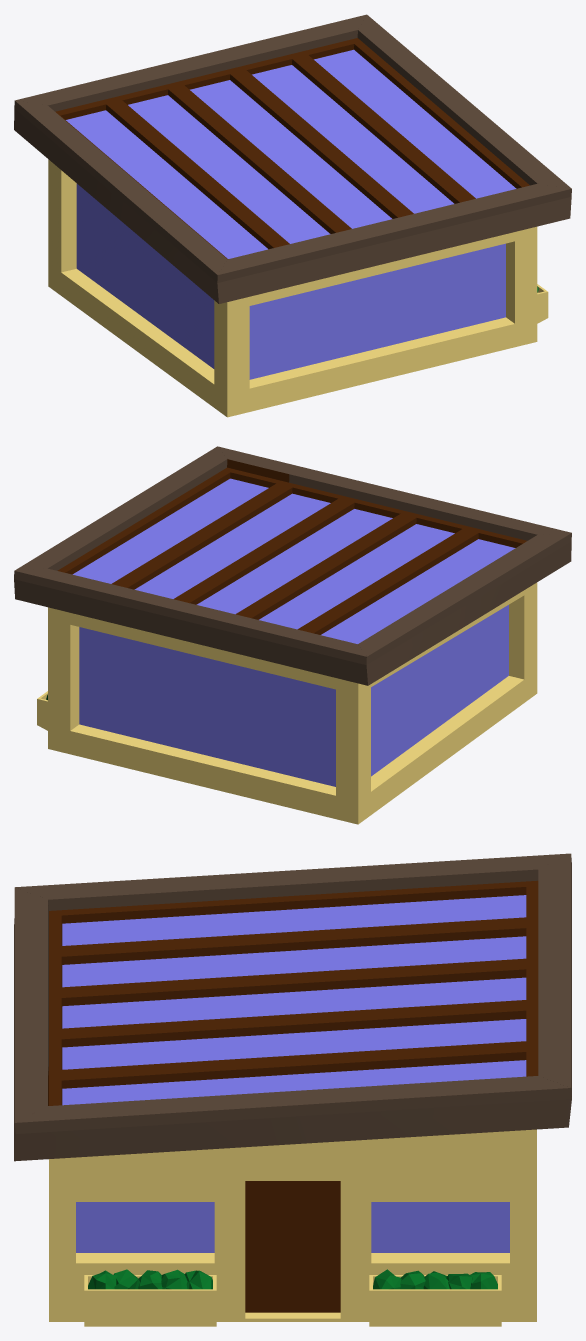
File: Flower Shop.FBX
3 renders of one model, top to bottom at view 1: azimuth 30°, elevation 25°; view 2: azimuth 150°, elevation 25°; view 3: azimuth 270°, elevation 25°, orthographic. The views are drawn at different scales.
Parts seen in each view (by area): view 1: Flower shop; view 2: Flower shop; view 3: Flower shop.
Part boxes in pixels (x1,y1,x2,y2): Flower shop: (14, 14, 571, 417); Flower shop: (14, 446, 571, 824); Flower shop: (14, 853, 571, 1326).
Bounding box in the file's own units: 362 × 177 × 360.
1 material, 1 textured.
